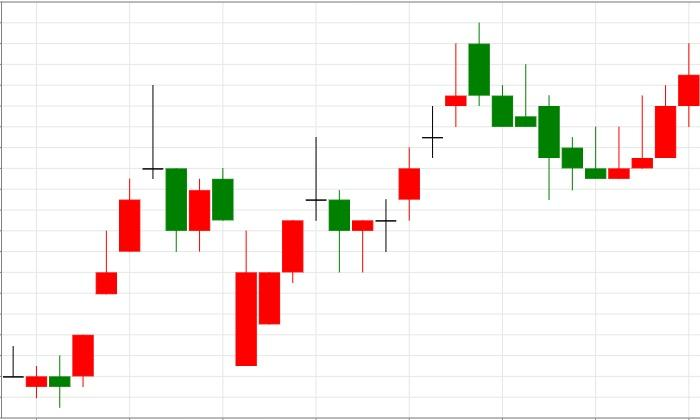evening_star_fall: (49, 85, 187, 408)
